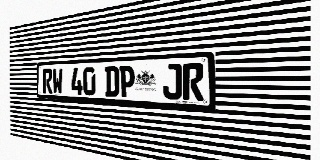0: (83, 67, 95, 96)
4: (71, 67, 83, 95)
D: (105, 66, 119, 97)
J: (163, 64, 182, 100)
P: (119, 65, 135, 98)
R: (183, 63, 204, 101), (43, 69, 52, 94)
W: (52, 68, 63, 94)
